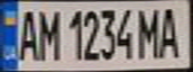1: (63, 6, 84, 61)
2: (81, 6, 100, 61)
3: (100, 4, 118, 61)
4: (115, 4, 139, 60)
A: (12, 6, 42, 62), (157, 3, 187, 59)
M: (33, 6, 63, 62), (136, 3, 163, 60)
